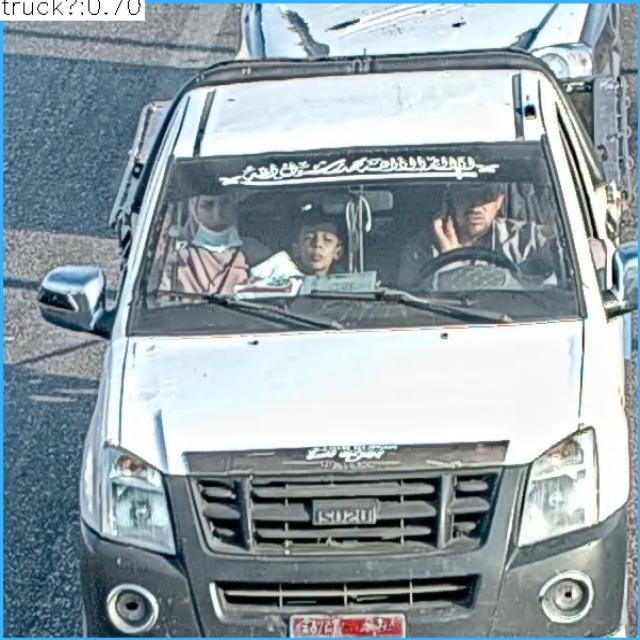windshield: (141, 153, 568, 318)
